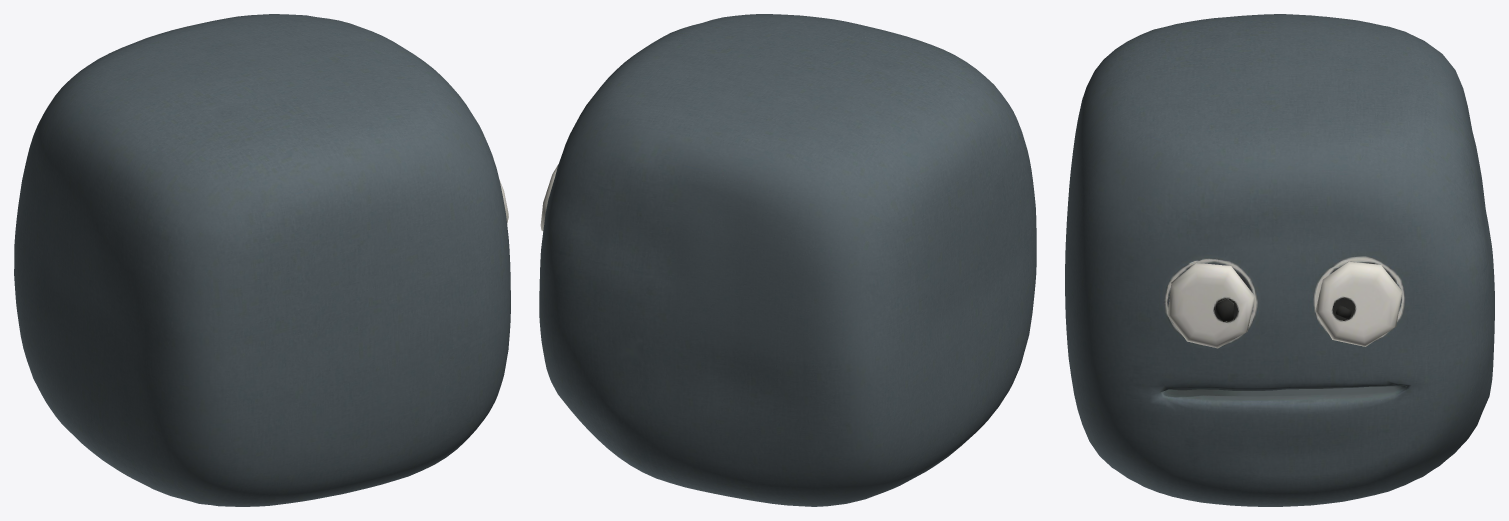
The model's file is petra_animated.glb.
3 renders of one model, left to right at view 1: azimuth 30°, elevation 25°; view 2: azimuth 150°, elevation 25°; view 3: azimuth 270°, elevation 25°, orthographic.
Visible parts, largest first — view 1: tripo_node_dc463d1e-339f-4ead-a8fa-ee4c91b24f02; view 2: tripo_node_dc463d1e-339f-4ead-a8fa-ee4c91b24f02; view 3: tripo_node_dc463d1e-339f-4ead-a8fa-ee4c91b24f02.
Part boxes in pixels (<box>): tripo_node_dc463d1e-339f-4ead-a8fa-ee4c91b24f02: <box>14,14,510,506</box>; tripo_node_dc463d1e-339f-4ead-a8fa-ee4c91b24f02: <box>539,14,1036,506</box>; tripo_node_dc463d1e-339f-4ead-a8fa-ee4c91b24f02: <box>1065,14,1494,506</box>.
Size of the model in its own units: 0.9859 by 0.9282 by 0.9374.
Materials: 1 (1 with a texture image).
